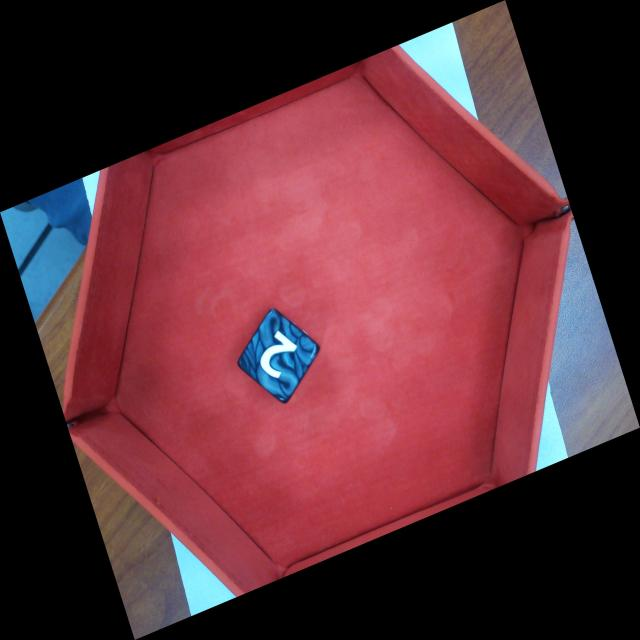dice: (234, 305, 324, 409)
